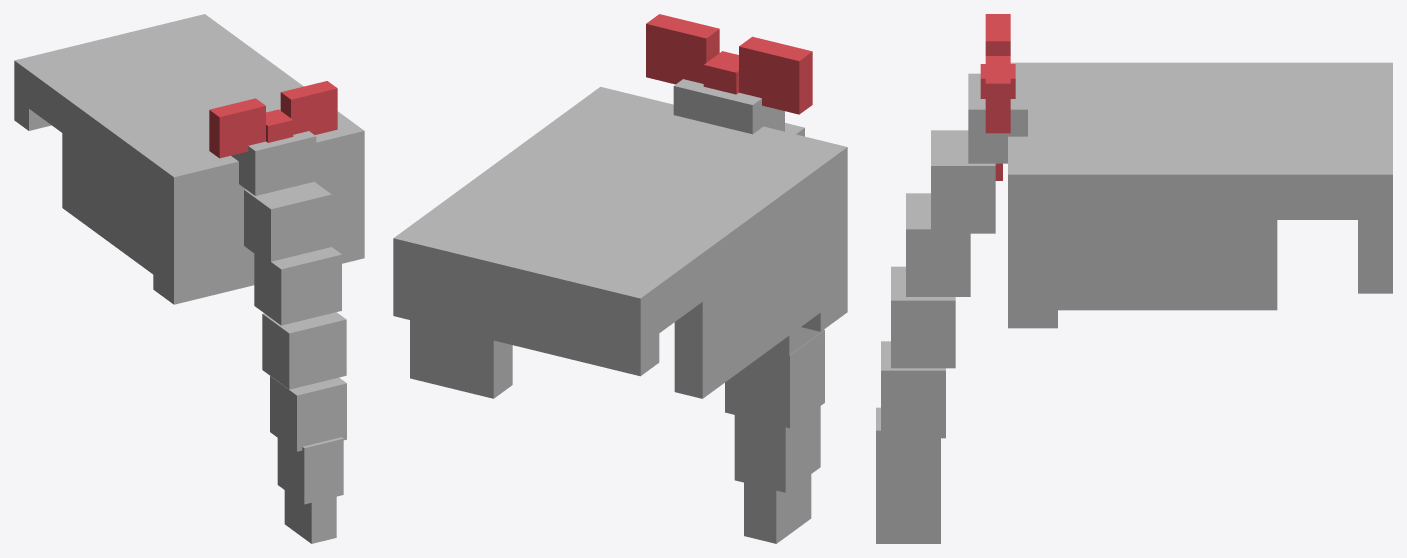
File: cabelo_rabo_cavalo_laco.glb
3 renders of one model, left to right at view 1: azimuth 30°, elevation 25°; view 2: azimuth 150°, elevation 25°; view 3: azimuth 270°, elevation 25°, orthographic. The views are drawn at different scales.
Visible parts, largest first — view 1: cabelo_rabo_cavalo_laco; view 2: cabelo_rabo_cavalo_laco; view 3: cabelo_rabo_cavalo_laco.
Boxes of the visible parts, <box> form: cabelo_rabo_cavalo_laco: <box>14,14,364,543</box>; cabelo_rabo_cavalo_laco: <box>393,14,847,543</box>; cabelo_rabo_cavalo_laco: <box>876,14,1392,543</box>.
Bounding box in the file's own units: 0.532 × 1.08 × 1.04.
